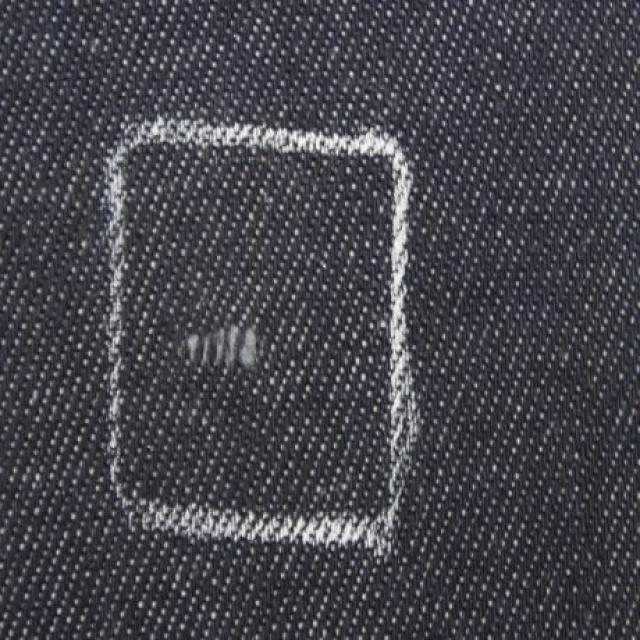stains: (172, 284, 304, 426)
